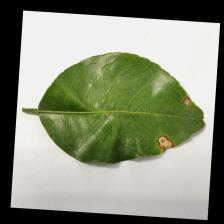canker: (148, 94, 204, 168)
